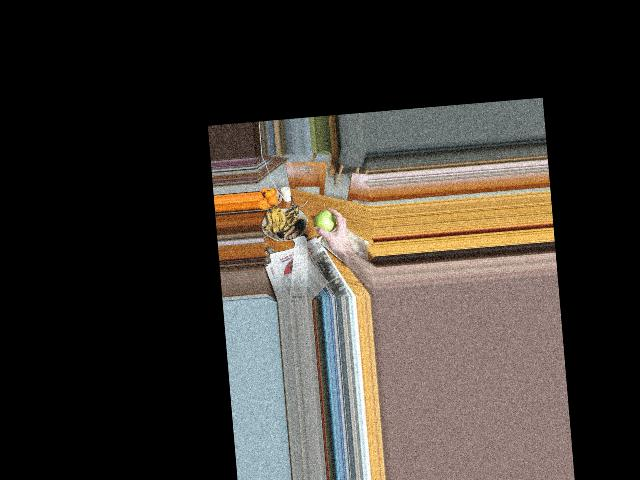apple: (312, 209, 337, 234)
